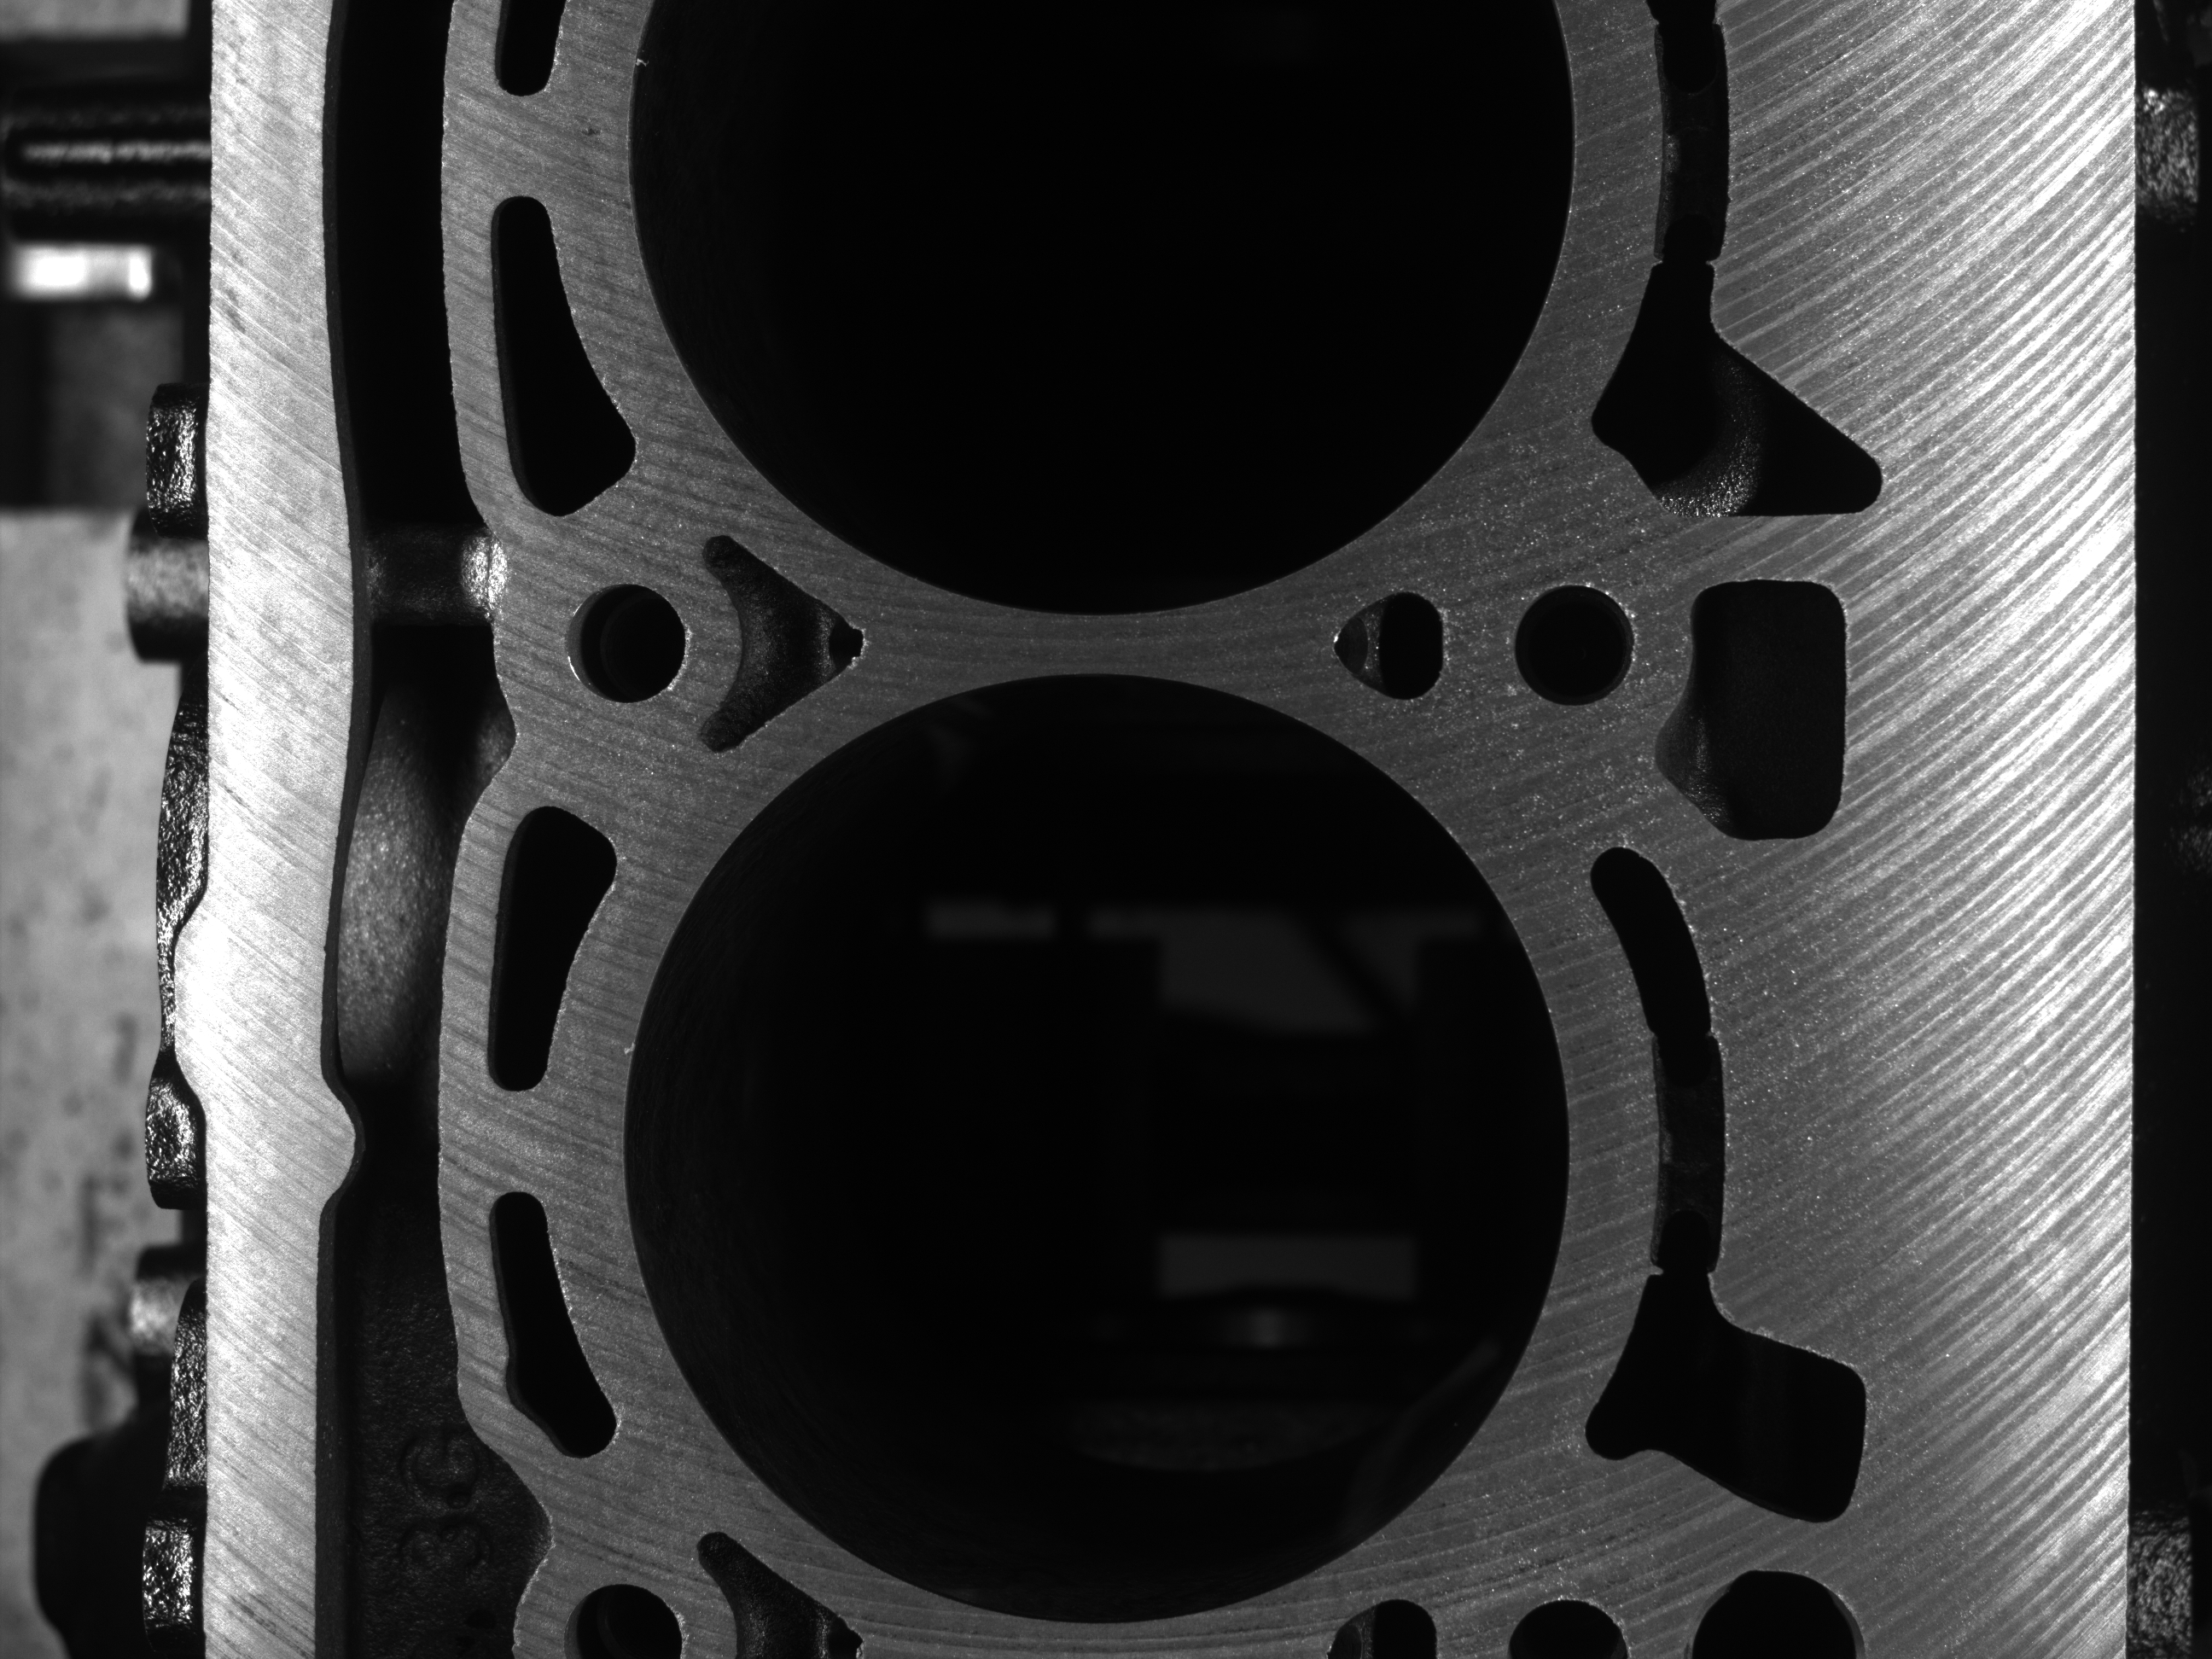crackle: (566, 108, 610, 143)
